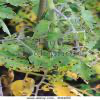Tomato Early blight leaf: (0, 57, 41, 72), (74, 61, 94, 85), (31, 19, 52, 40), (47, 52, 72, 69), (0, 7, 25, 21)
